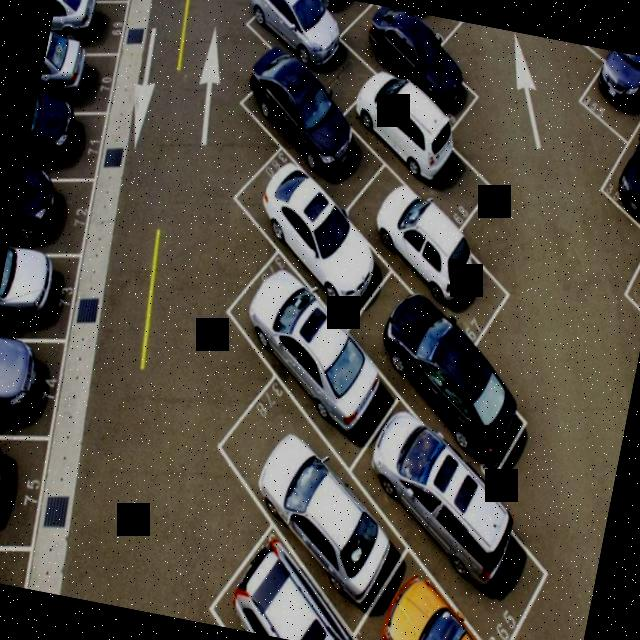car: (332, 374, 576, 640), (209, 394, 423, 640), (332, 250, 554, 483), (204, 237, 413, 466), (208, 115, 408, 338), (336, 148, 520, 340), (214, 34, 386, 215), (339, 52, 499, 228), (211, 518, 379, 640), (338, 1, 484, 124), (227, 0, 370, 110), (364, 545, 527, 640), (0, 238, 86, 361), (8, 170, 106, 266), (22, 98, 118, 194), (0, 326, 68, 451), (589, 85, 640, 251), (569, 46, 640, 152), (36, 38, 123, 118), (47, 0, 133, 58), (549, 39, 640, 77)
